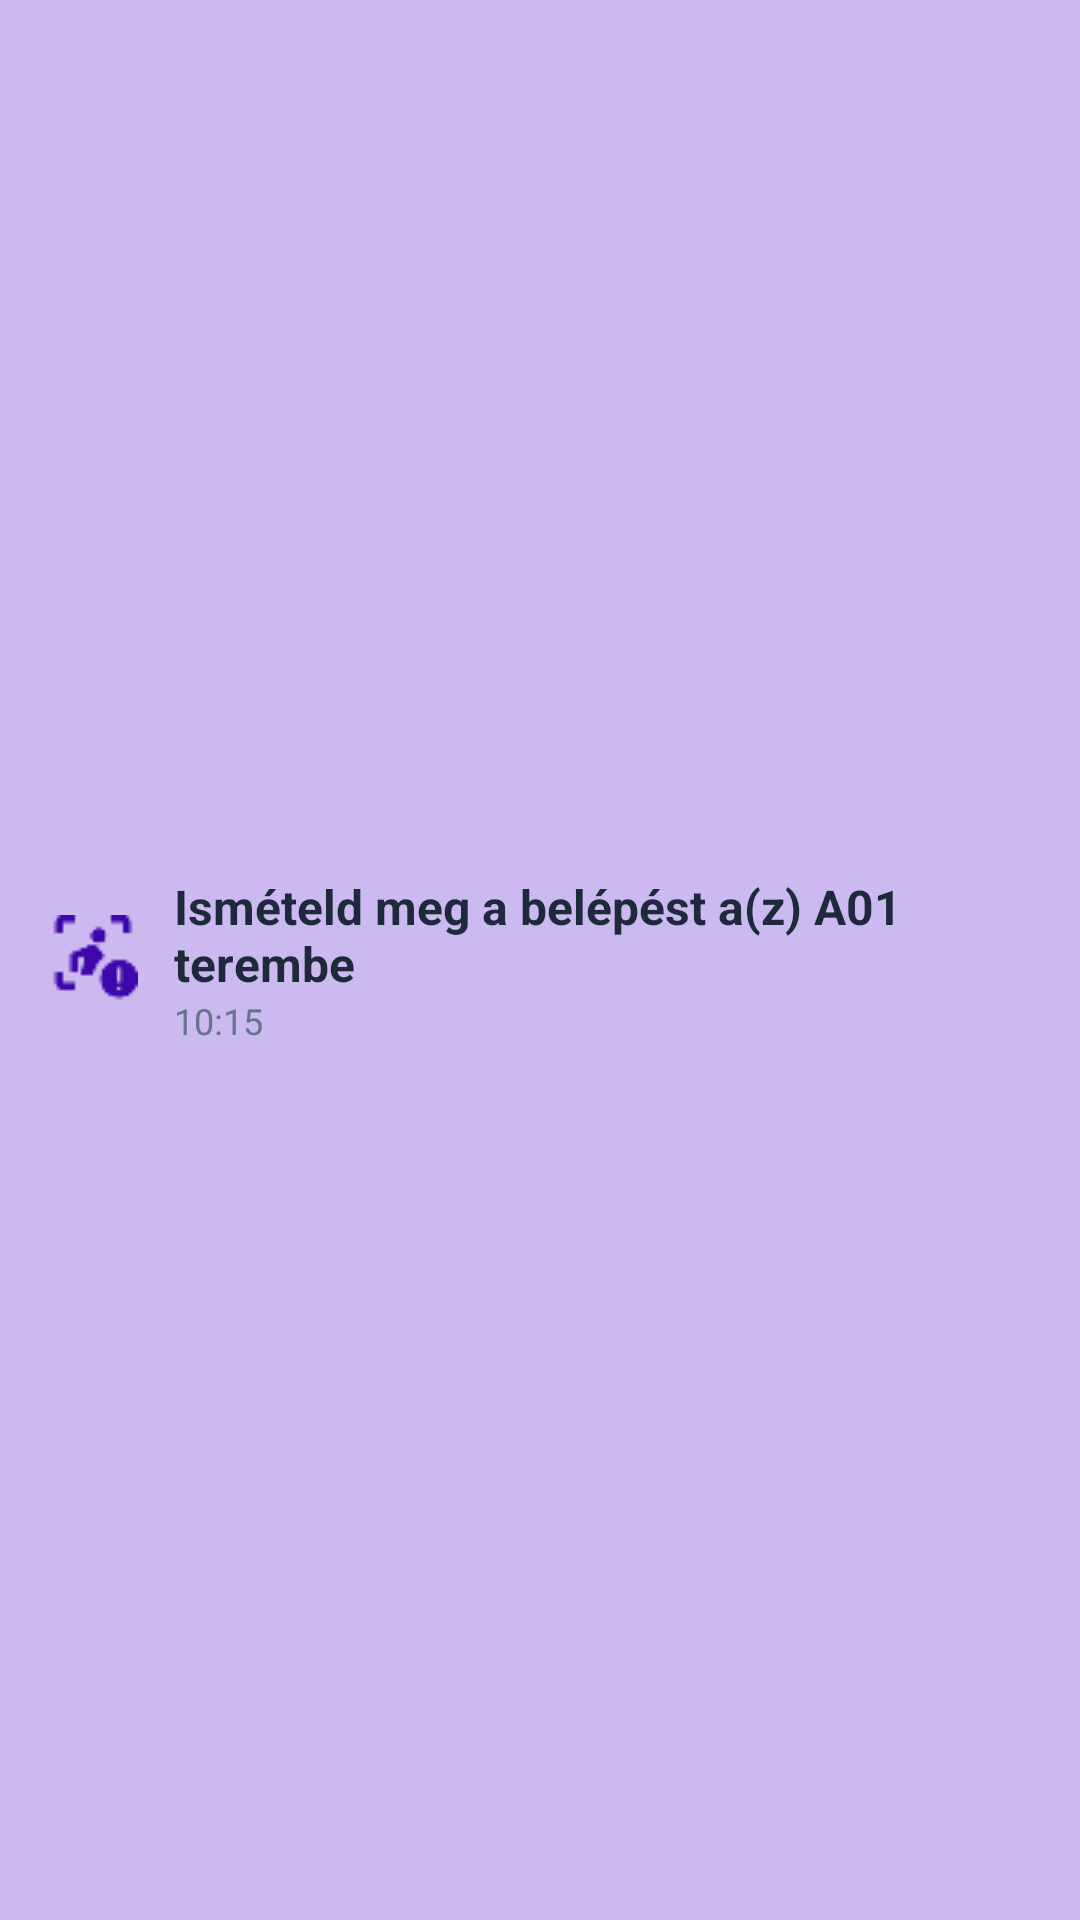

Screen size 1080x1920. Icon name, then its center in pixels as [x,y]:
zone notification: [95,957]
